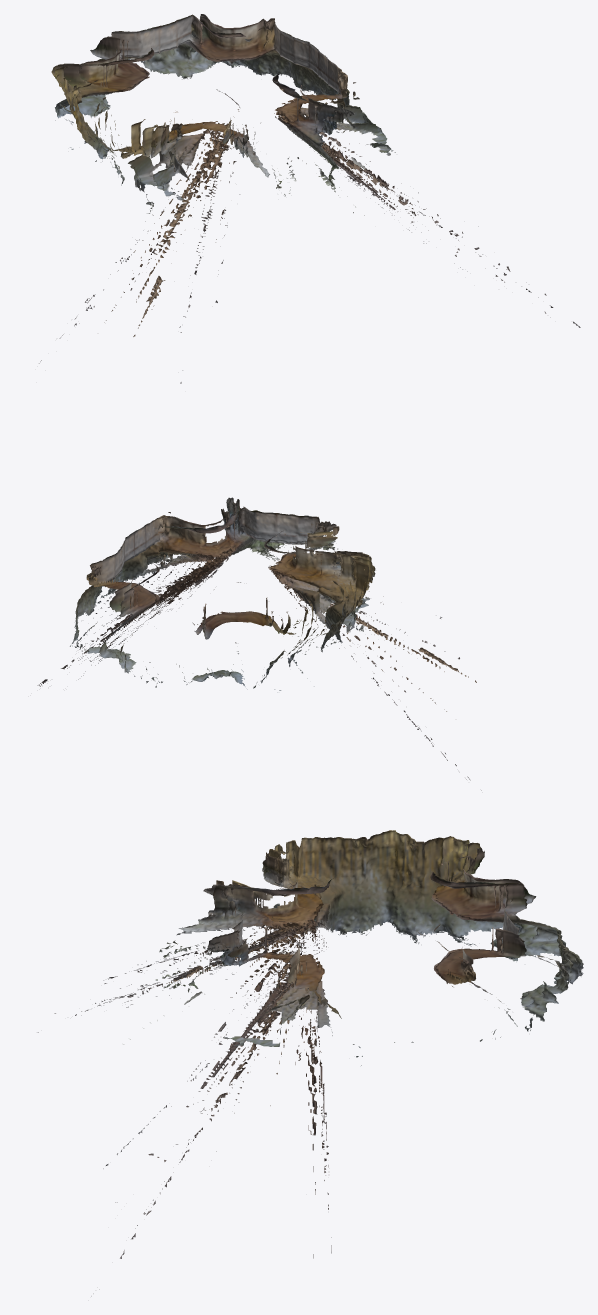
Rendered from world-1770333123638.glb.
3 views of the same model, one above another, from view 1: azimuth 30°, elevation 25°; view 2: azimuth 150°, elevation 25°; view 3: azimuth 270°, elevation 25° (orthographic). The views are drawn at different scales.
Visible parts, largest first — view 1: world; view 2: world; view 3: world.
Boxes of the visible parts, x1,y1,x2,y2 form: world: [39, 14, 580, 383]; world: [37, 497, 481, 790]; world: [37, 830, 583, 1296].
Bounding box in the file's own units: 22.19 × 10.65 × 19.99.
